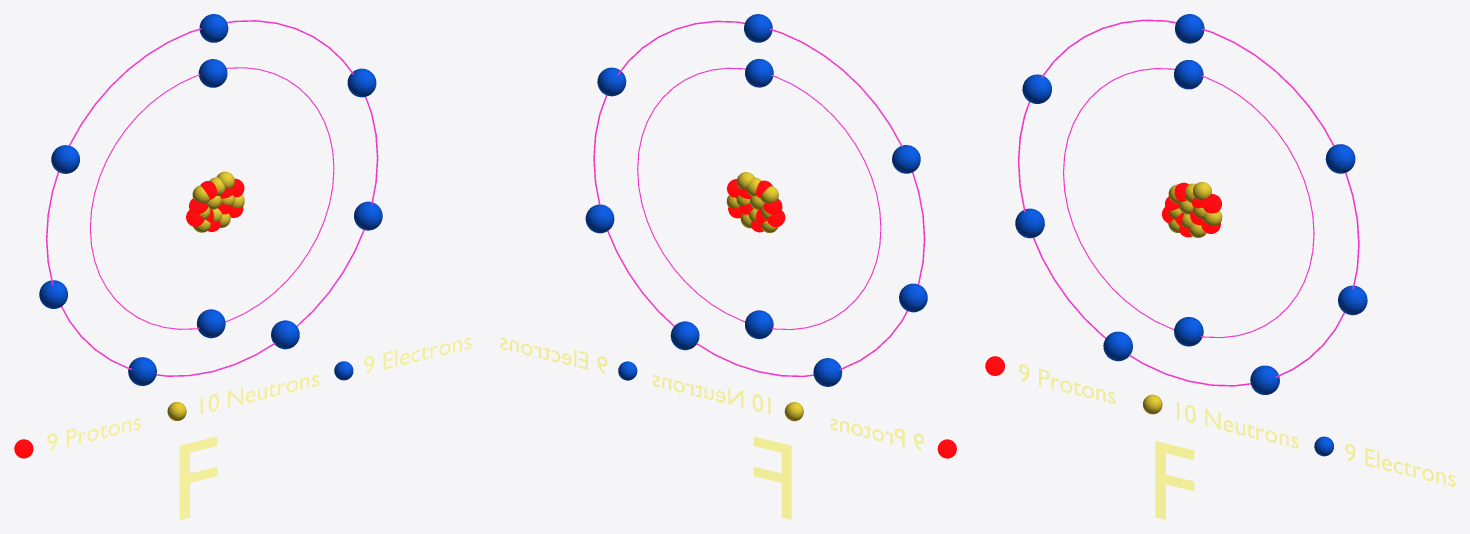
File: fluorine.glb
3 views of the same model, side by side, from view 1: azimuth 30°, elevation 25°; view 2: azimuth 150°, elevation 25°; view 3: azimuth 330°, elevation 25° (orthographic). The views are drawn at different scales.
Visible parts, largest first — view 1: BézierCircle.001, Text, BézierCircle, Text.002, Text.003, Sphere.022, Sphere.002, Sphere.001, Sphere.009, Sphere.030, Sphere.015, Sphere.026 (+3 smaller); view 2: BézierCircle.001, Text, BézierCircle, Text.002, Text.003, Sphere.009, Sphere.016, Sphere.001, Sphere.020, Sphere.002, Sphere.026, Sphere.030 (+3 smaller); view 3: BézierCircle.001, Text, BézierCircle, Text.002, Text.003, Sphere.002, Sphere.020, Sphere.022, Sphere.026, Sphere.001, Sphere.016, Sphere.030 (+3 smaller).
Part boxes in pixels (x1,y1,x2,y2): BézierCircle.001: [46, 20, 378, 376]; Text: [179, 436, 217, 519]; BézierCircle: [89, 67, 334, 329]; Text.002: [200, 375, 318, 414]; Text.003: [364, 337, 471, 373]; Sphere.022: [347, 68, 376, 97]; Sphere.002: [198, 59, 227, 87]; Sphere.001: [196, 309, 225, 338]; Sphere.009: [354, 201, 382, 230]; Sphere.030: [271, 320, 299, 349]; Sphere.015: [199, 14, 228, 42]; Sphere.026: [51, 145, 79, 173]; BézierCircle.001: [593, 20, 925, 376]; Text: [753, 436, 791, 519]; BézierCircle: [637, 67, 881, 329]; Text.002: [652, 375, 770, 414]; Text.003: [500, 338, 607, 373]; Sphere.009: [585, 204, 614, 233]; Sphere.016: [899, 283, 927, 312]; Sphere.001: [745, 310, 773, 339]; Sphere.020: [813, 358, 842, 386]; Sphere.002: [745, 59, 773, 87]; Sphere.026: [892, 145, 920, 173]; Sphere.030: [670, 321, 699, 350]; BézierCircle.001: [1017, 19, 1359, 386]; Text: [1155, 441, 1194, 519]; BézierCircle: [1063, 68, 1314, 338]; Text.002: [1177, 402, 1298, 448]; Text.003: [1345, 444, 1455, 486]; Sphere.002: [1174, 60, 1203, 89]; Sphere.020: [1103, 331, 1132, 361]; Sphere.022: [1325, 144, 1355, 173]; Sphere.026: [1022, 74, 1051, 103]; Sphere.001: [1174, 317, 1203, 346]; Sphere.016: [1015, 208, 1044, 238]; Sphere.030: [1250, 365, 1279, 394].
Bounding box in the file's own units: 4.37 × 4.55 × 0.2925.
